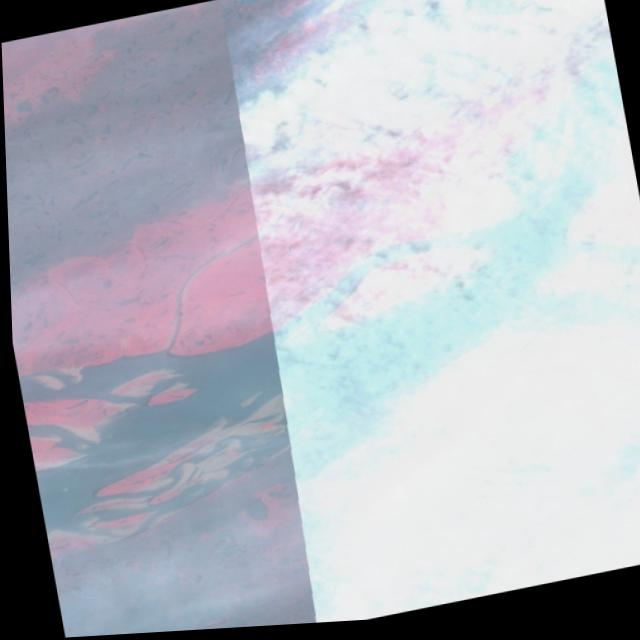fire: (253, 0, 374, 47)
